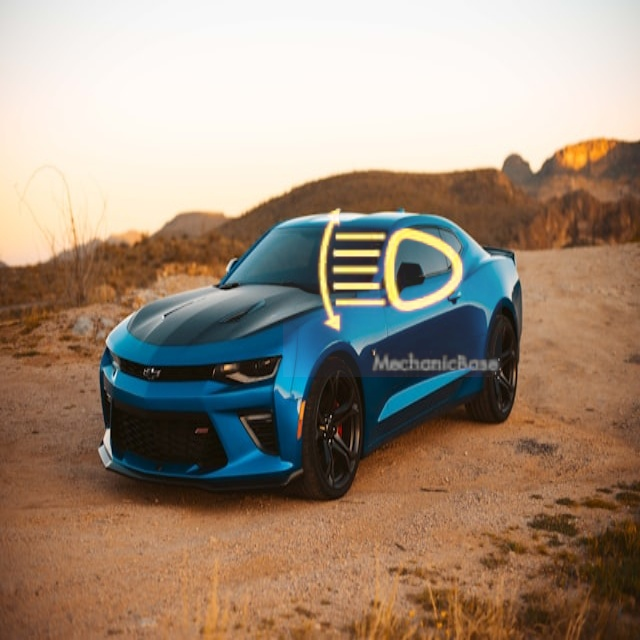symbol: (283, 158, 502, 377)
